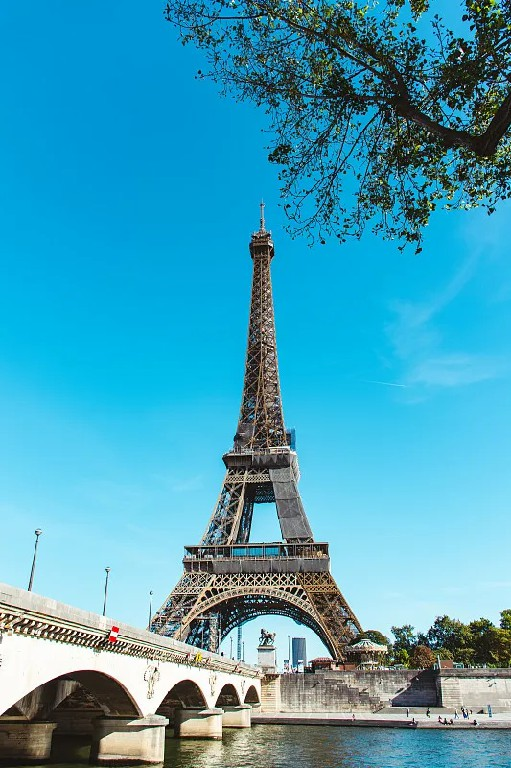Eiffel: (145, 197, 370, 653)
